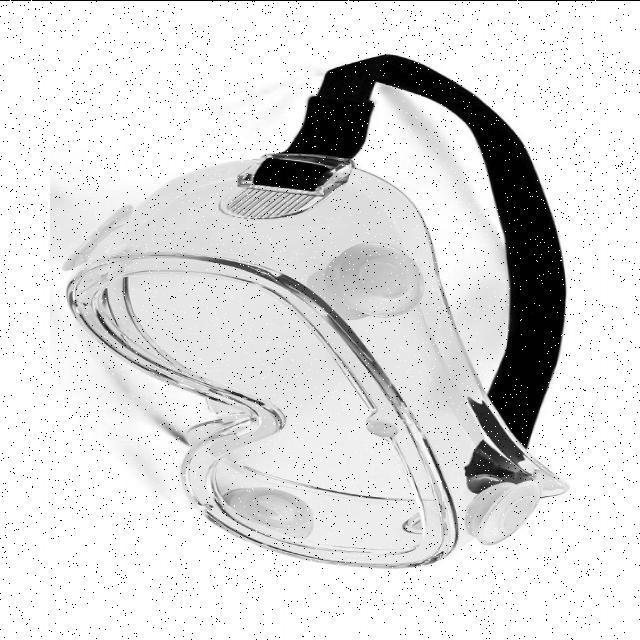Goggles: (70, 47, 581, 576)
